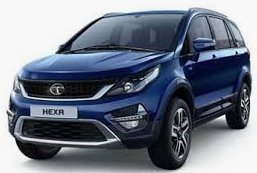car: (6, 7, 252, 170)
